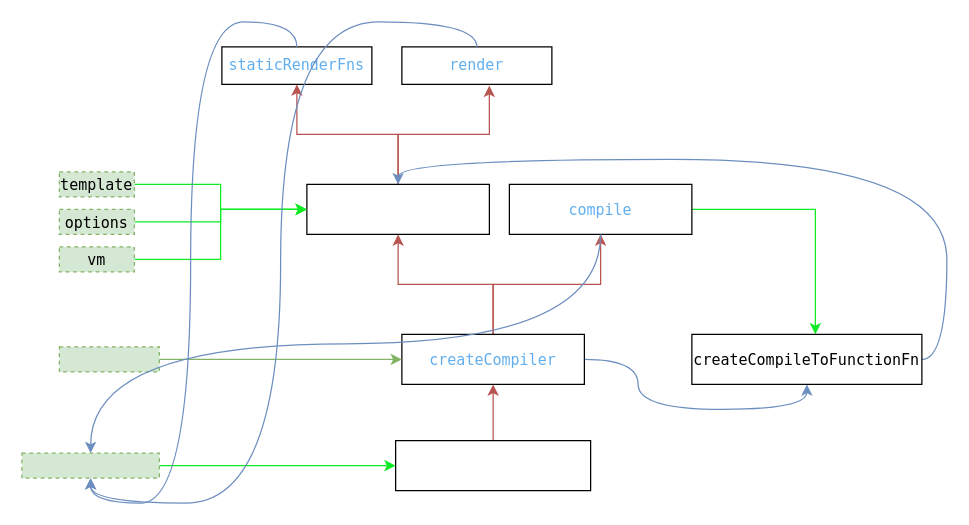
Image size: 969x525. Some labels were removed from this diagram. Here are the shapes that lost their labels. From the top down, the centre of each, then its label:
At [397,208]: "compileToFunctions".
At [108,359]: "baseOptions".
At [90,465]: "baseCompile Fn".
At [492,465]: "createCompilerCreator".
